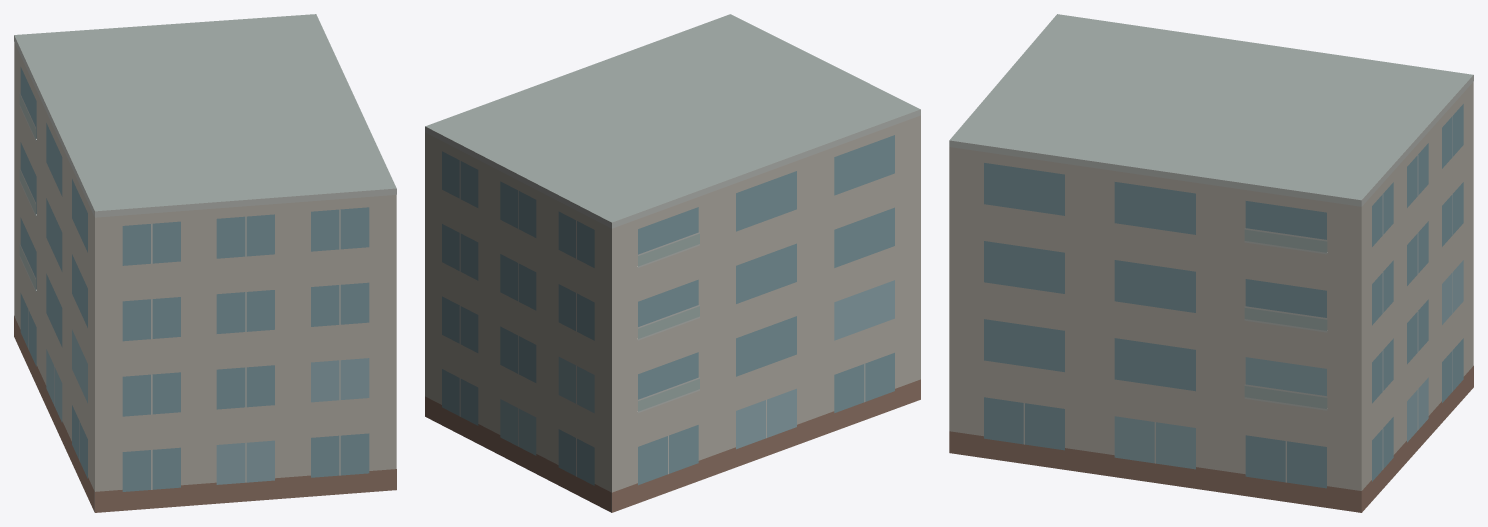
File: survey-upis-32882655.glb
The picture shows the model from 3 angles, left to right: view 1: azimuth 30°, elevation 25°; view 2: azimuth 150°, elevation 25°; view 3: azimuth 270°, elevation 25°; orthographic projection. The views are drawn at different scales.
Parts seen in each view (by area): view 1: survey-upis-32882655.tmp; view 2: survey-upis-32882655.tmp; view 3: survey-upis-32882655.tmp.
Part boxes in pixels (bbox=[...]): survey-upis-32882655.tmp: bbox=[14, 14, 396, 512]; survey-upis-32882655.tmp: bbox=[425, 14, 920, 512]; survey-upis-32882655.tmp: bbox=[949, 14, 1473, 512].
Bounding box in the file's own units: 14.96 × 11.7 × 17.8.
